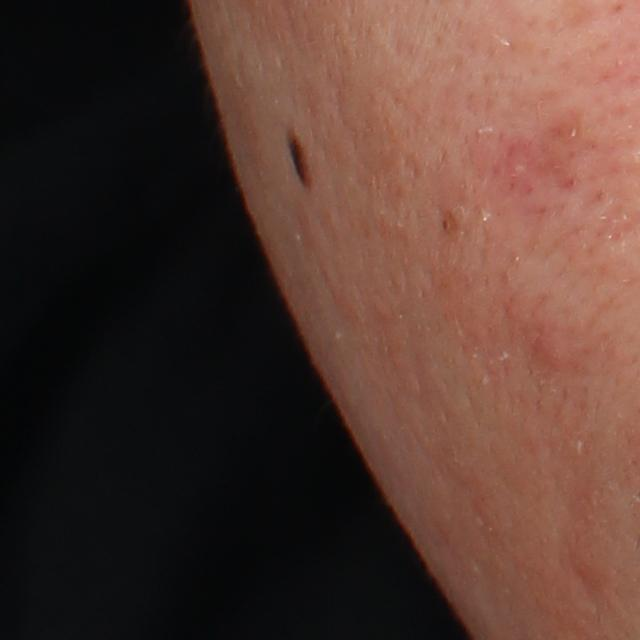nevus: (285, 129, 317, 190)
papule: (525, 333, 584, 383)
